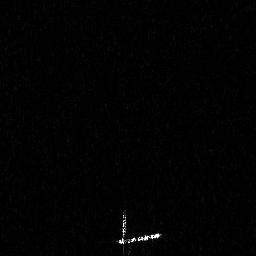ship: (113, 208, 163, 254)
